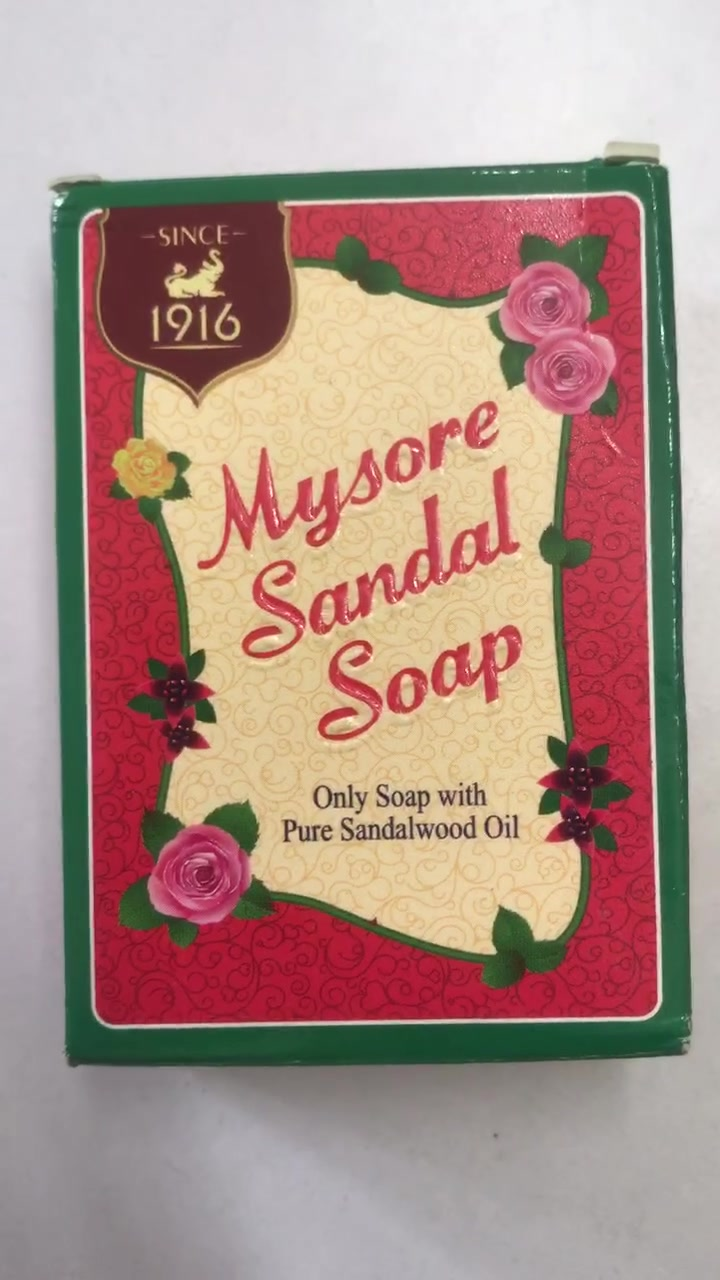mysore sandal soap: (59, 170, 689, 1053)
